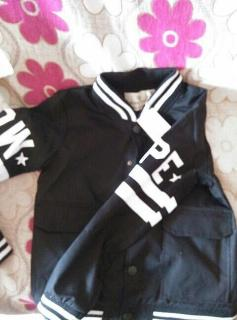long sleeve top: (0, 67, 237, 319)
